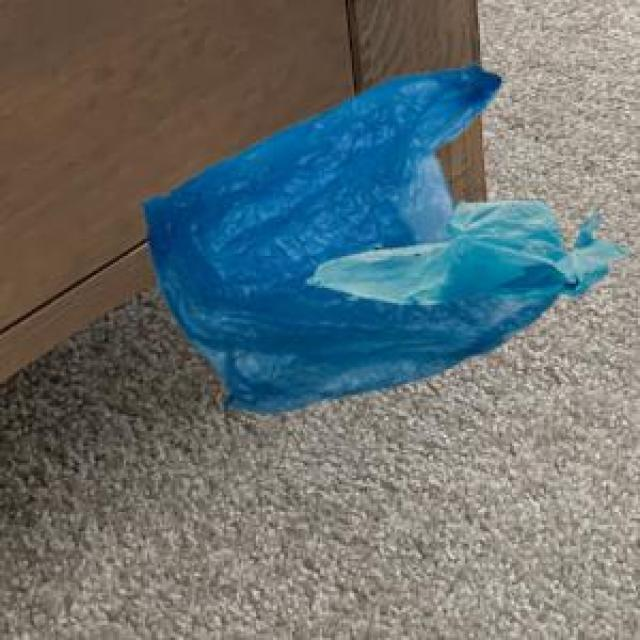Bolsa-de-plastico: (137, 64, 635, 415)
